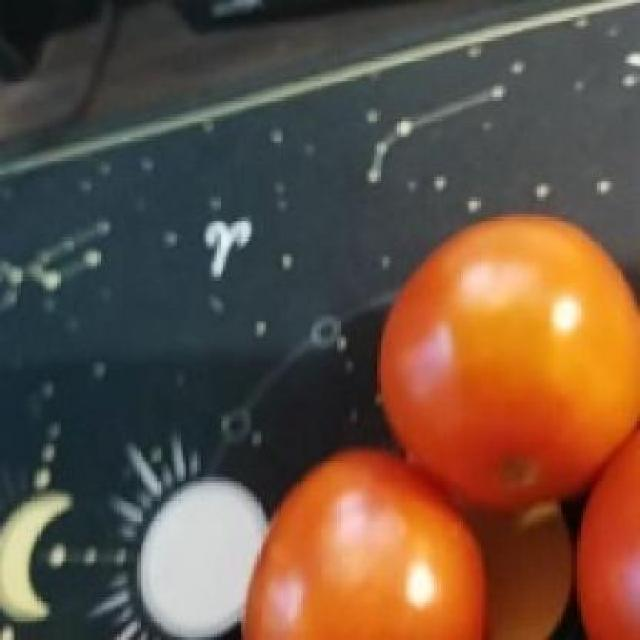Fresh Tomato: (377, 208, 640, 498), (238, 455, 491, 640), (569, 409, 640, 640)
